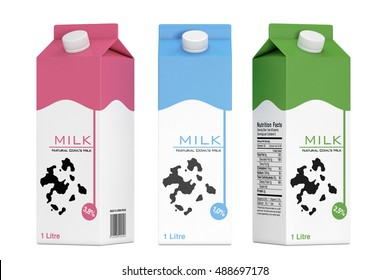carton: (245, 10, 361, 257), (27, 10, 140, 252), (148, 11, 236, 252)
